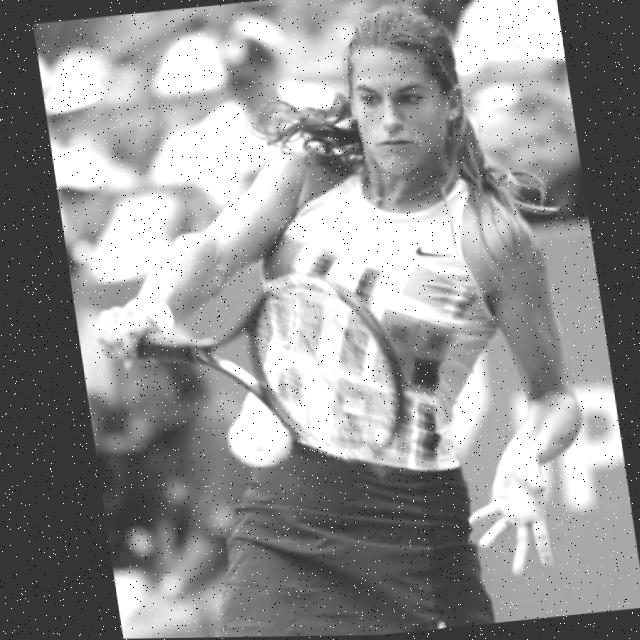face: (319, 0, 485, 201)
